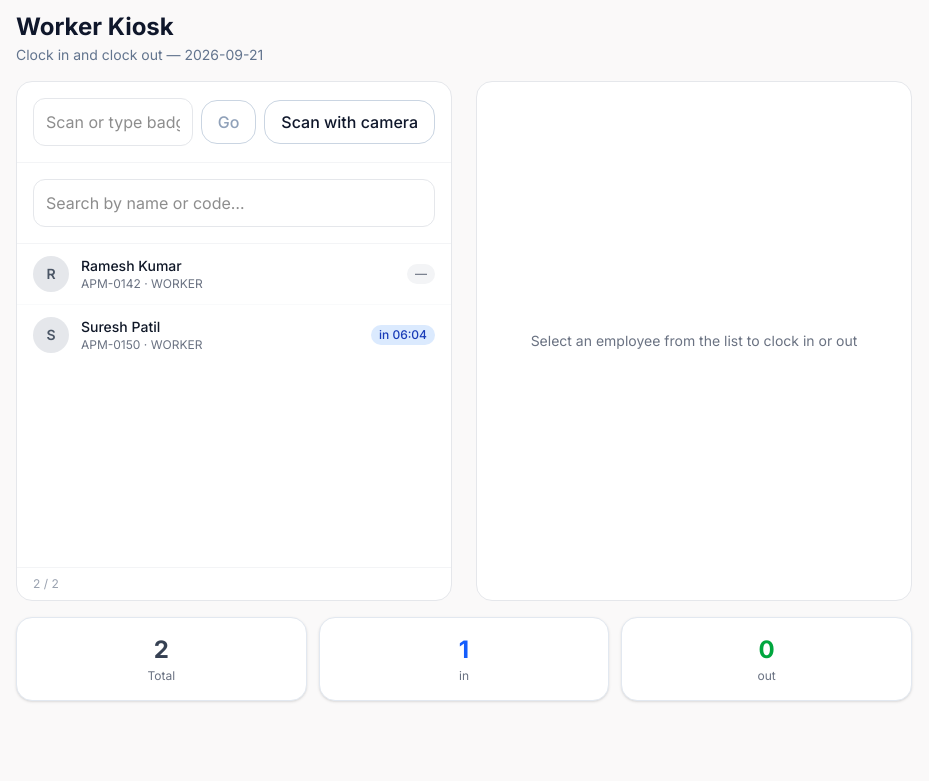
punching › sends the badge code, the shift and the signed-in user — and reports a live success
Click the button "R Ramesh Kumar APM-0142 · WORKER —" at (51, 274), box x1=17 y1=244 x2=451 y2=305
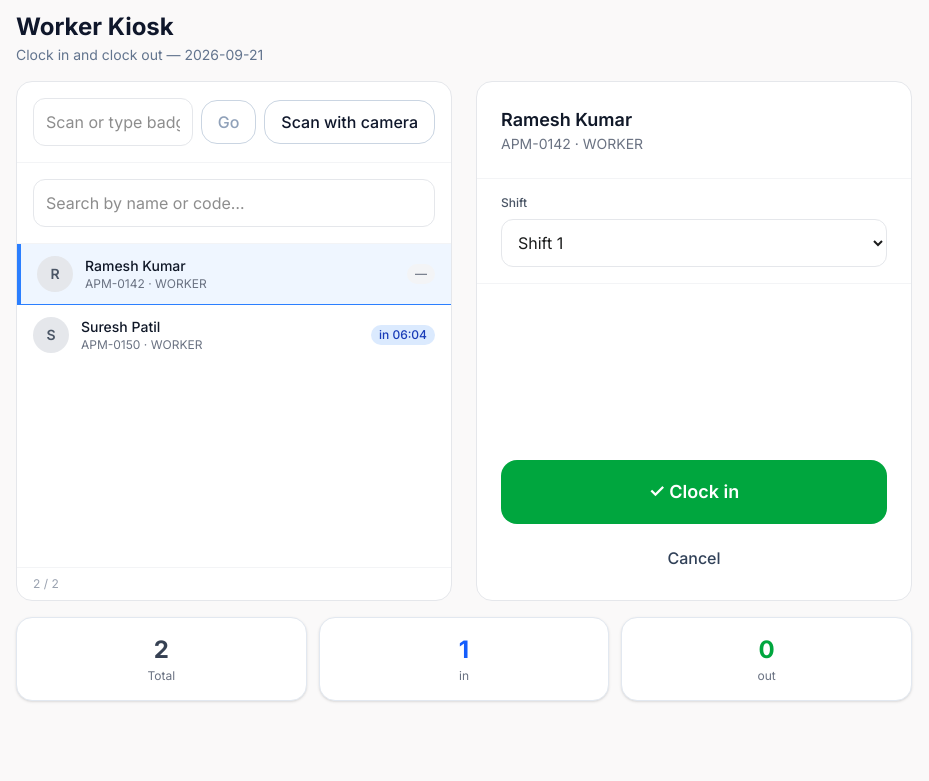
Click the button "✓ Clock in" at (694, 492), box x1=501 y1=460 x2=887 y2=524
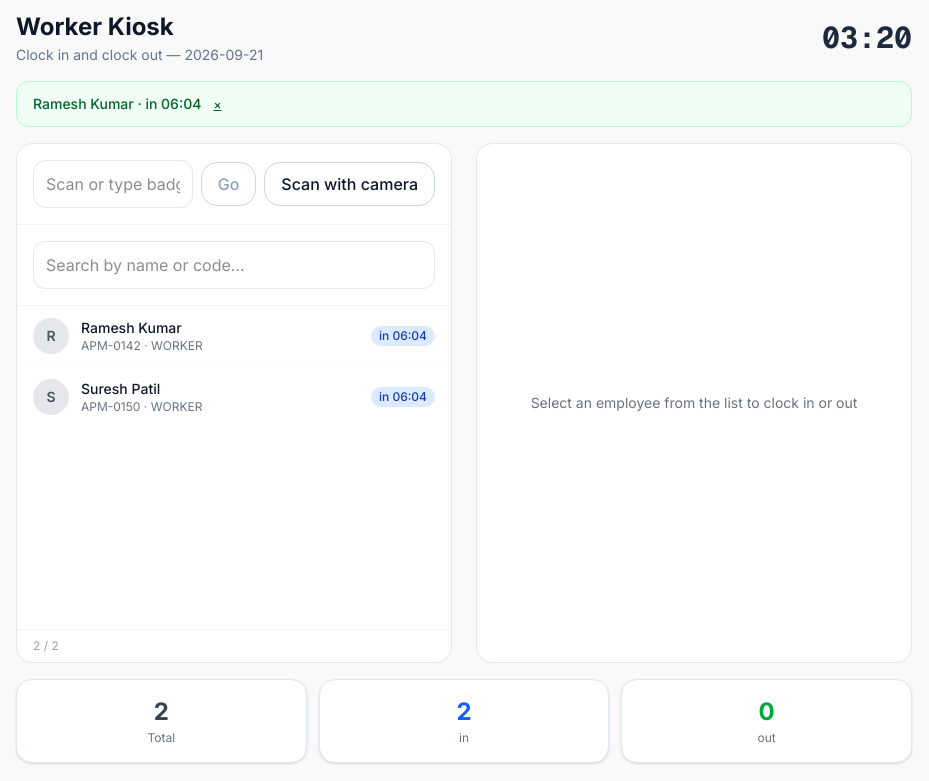
Result: the text "Ramesh Kumar · in 06:04 ×" is shown at x1=16 y1=81 x2=912 y2=127
